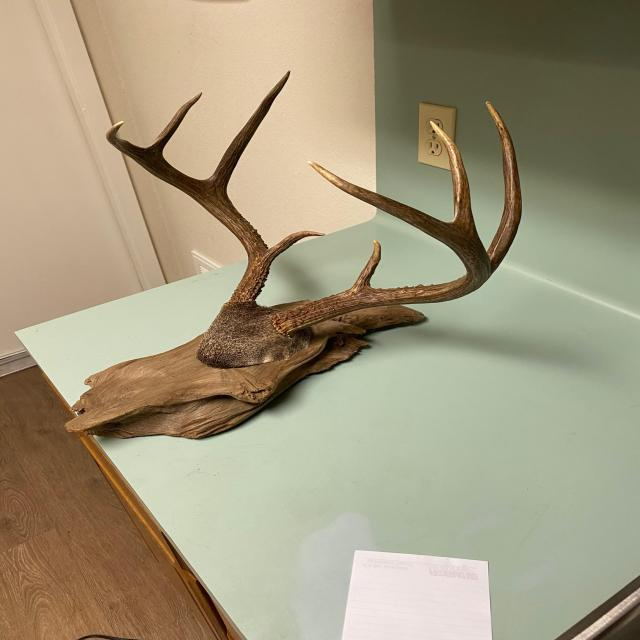R-G1: (264, 231, 326, 261)
R-G2: (206, 70, 291, 192)
R-G3: (146, 91, 202, 155)
